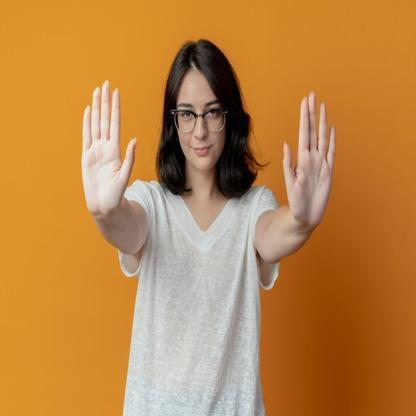stop: (80, 77, 140, 217), (281, 86, 338, 232)
